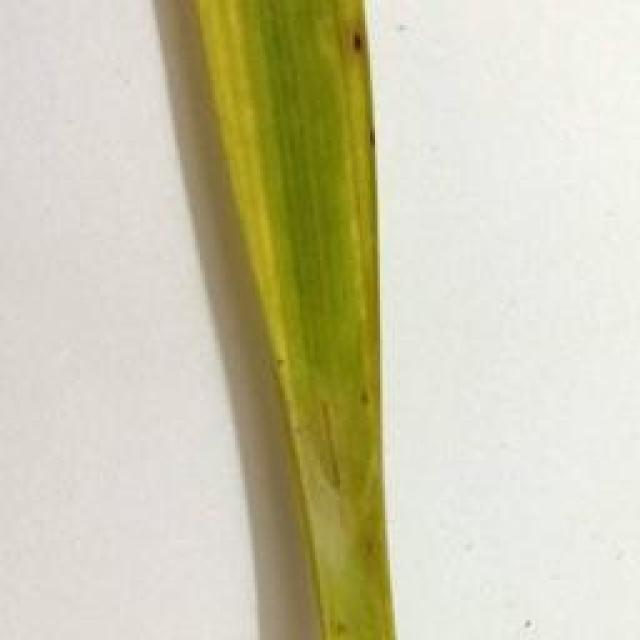Bacterial_Blight: (194, 0, 308, 438), (331, 0, 402, 416)
Brown_Spot: (342, 31, 374, 61), (360, 390, 378, 414)
